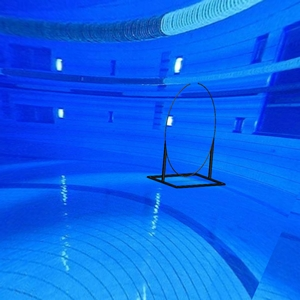circle: (147, 81, 227, 192)
